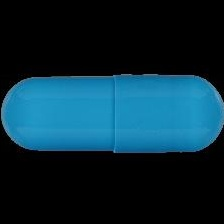54868-1380: (0, 0, 224, 224)
